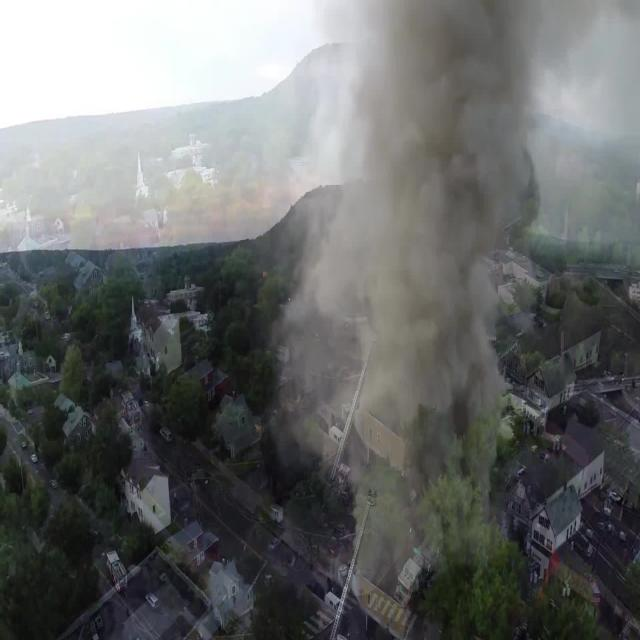smoke: (314, 2, 508, 541)
